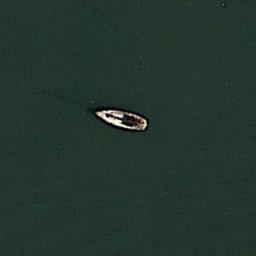boat: (89, 103, 148, 132)
